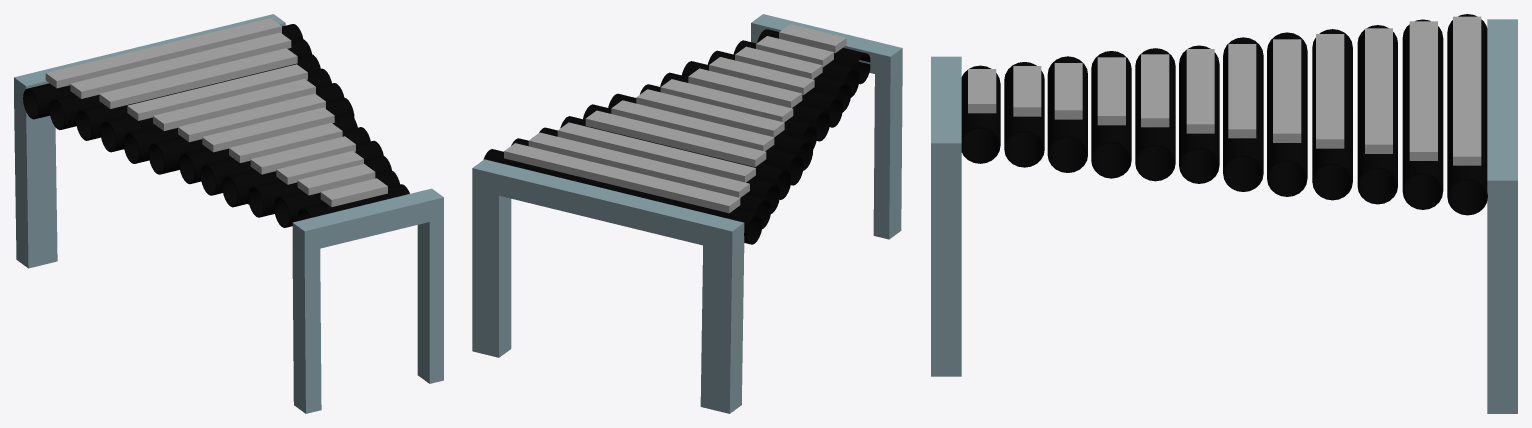
Rendered from Marimba_Test.fbx.
3 renders of one model, left to right at view 1: azimuth 30°, elevation 25°; view 2: azimuth 150°, elevation 25°; view 3: azimuth 270°, elevation 25°, orthographic. The views are drawn at different scales.
Parts seen in each view (by area): view 1: leg_small, leg_large, pCube12, pCube11, pCube10, pCube9, pCube8, pCube7, pCube6, pCube5, pCube4, pCylinder7 (+14 smaller); view 2: leg_large, leg_small, pCube12, pCube11, pCube10, pCube9, pCube8, pCube7, pCylinder12, pCube6, pCube5, pCube4 (+14 smaller); view 3: leg_large, leg_small, pCube12, pCube11, pCylinder12, pCylinder11, pCylinder8, pCylinder10, pCube10, pCylinder9, pCylinder7, pCube9 (+14 smaller).
Boxes of the visible parts, x1,y1,x2,y2 form: leg_small: [292, 188, 443, 413]; leg_large: [14, 14, 285, 268]; pCube12: [45, 18, 281, 88]; pCube11: [70, 32, 291, 98]; pCube10: [99, 48, 297, 108]; pCube9: [127, 64, 307, 120]; pCube8: [153, 79, 315, 130]; pCube7: [178, 93, 325, 142]; pCube6: [202, 107, 334, 152]; pCube5: [229, 123, 342, 162]; pCube4: [250, 136, 355, 174]; pCylinder7: [148, 97, 354, 174]; leg_large: [472, 159, 744, 413]; leg_small: [751, 14, 902, 239]; pCube12: [504, 143, 740, 213]; pCube11: [528, 132, 749, 197]; pCube10: [557, 122, 755, 182]; pCube9: [585, 110, 766, 166]; pCube8: [611, 100, 774, 151]; pCube7: [636, 89, 784, 137]; pCylinder12: [483, 149, 762, 244]; pCube6: [660, 79, 793, 122]; pCube5: [688, 68, 802, 108]; pCube4: [709, 57, 814, 94]; leg_large: [1487, 19, 1517, 413]; leg_small: [931, 56, 961, 376]; pCube12: [1453, 16, 1481, 165]; pCube11: [1409, 21, 1437, 160]; pCylinder12: [1447, 14, 1487, 215]; pCylinder11: [1402, 19, 1443, 209]; pCylinder8: [1267, 32, 1307, 196]; pCylinder10: [1357, 25, 1397, 204]; pCube10: [1365, 28, 1392, 153]; pCylinder9: [1312, 29, 1352, 200]; pCylinder7: [1223, 37, 1263, 191]; pCube9: [1316, 34, 1344, 148].
Size of the model in its own units: 4.44 by 3.1 by 6.69.
